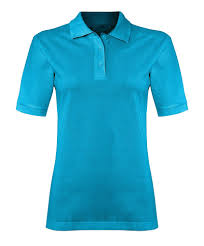S_polo shirt: (19, 14, 186, 235)
